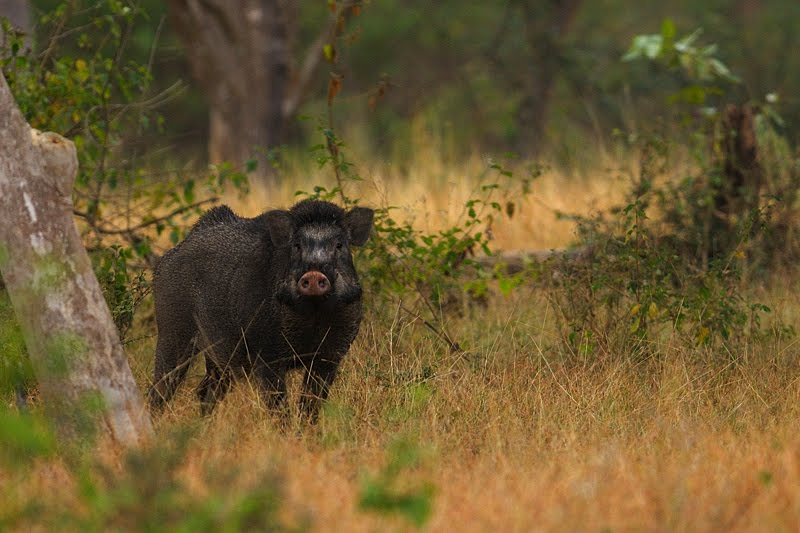wild boar: (123, 191, 401, 469)
